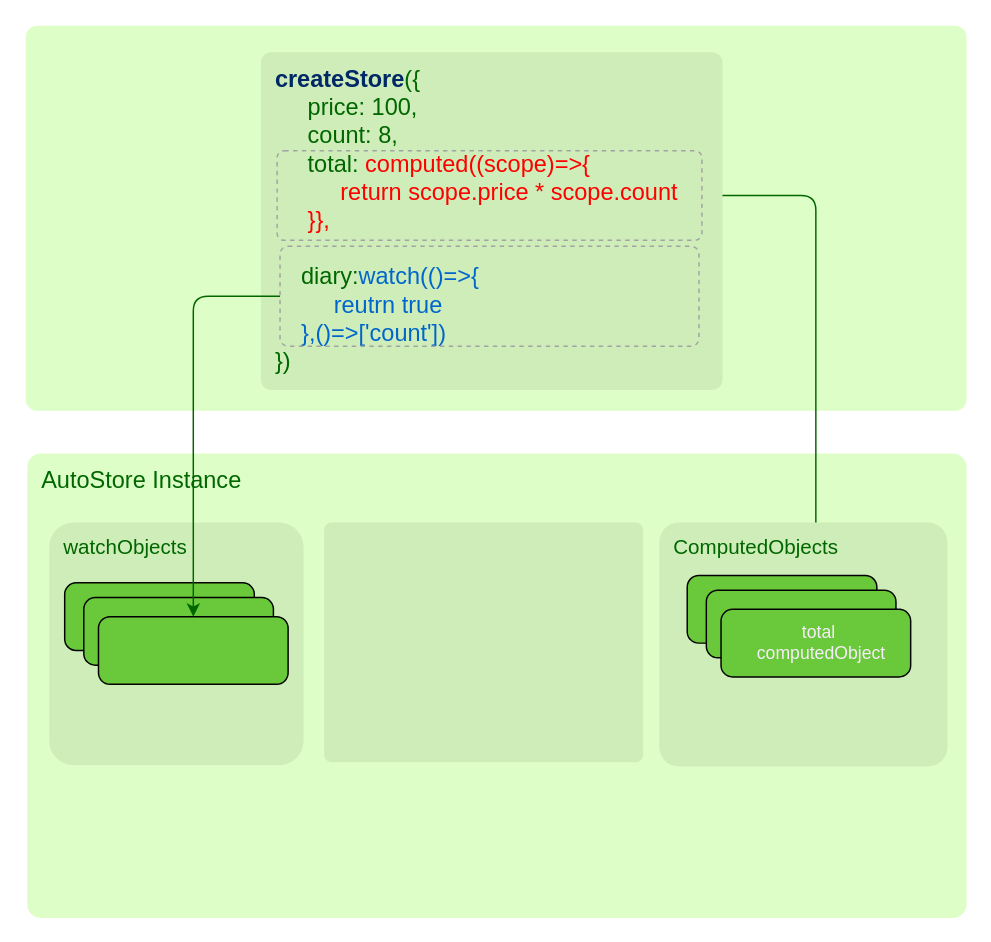
This 991x942 diagram has some shape labels left out. Each missing label, with the centre of its shape:
"diary watchedObject" goes at point (192, 649).
"State=Proxy( { price: 100, count: 8, total: 800 , diary: true })" goes at point (482, 641).
